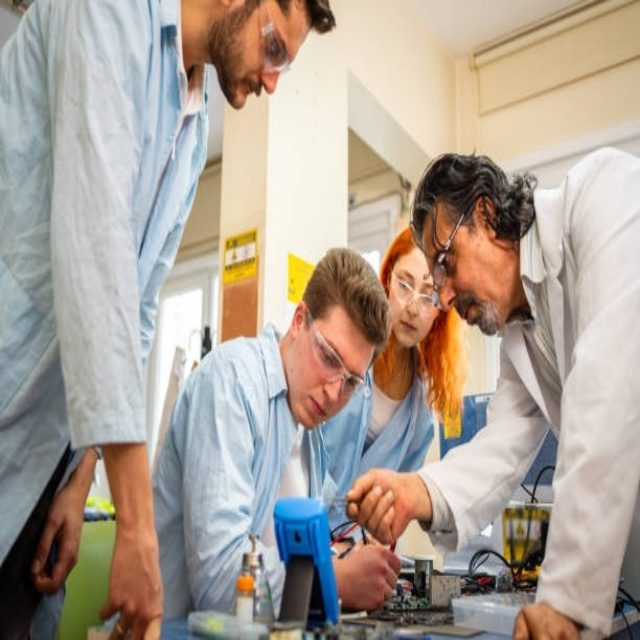Gafas: (305, 308, 369, 397), (431, 201, 473, 289), (259, 0, 302, 77), (391, 270, 442, 316)
Sin_guantes: (96, 511, 166, 640), (30, 477, 88, 599), (346, 467, 418, 549), (336, 540, 402, 613), (512, 600, 581, 640)
Sin_mascara: (232, 72, 277, 119), (453, 298, 498, 337), (301, 386, 336, 431), (396, 309, 421, 340)
